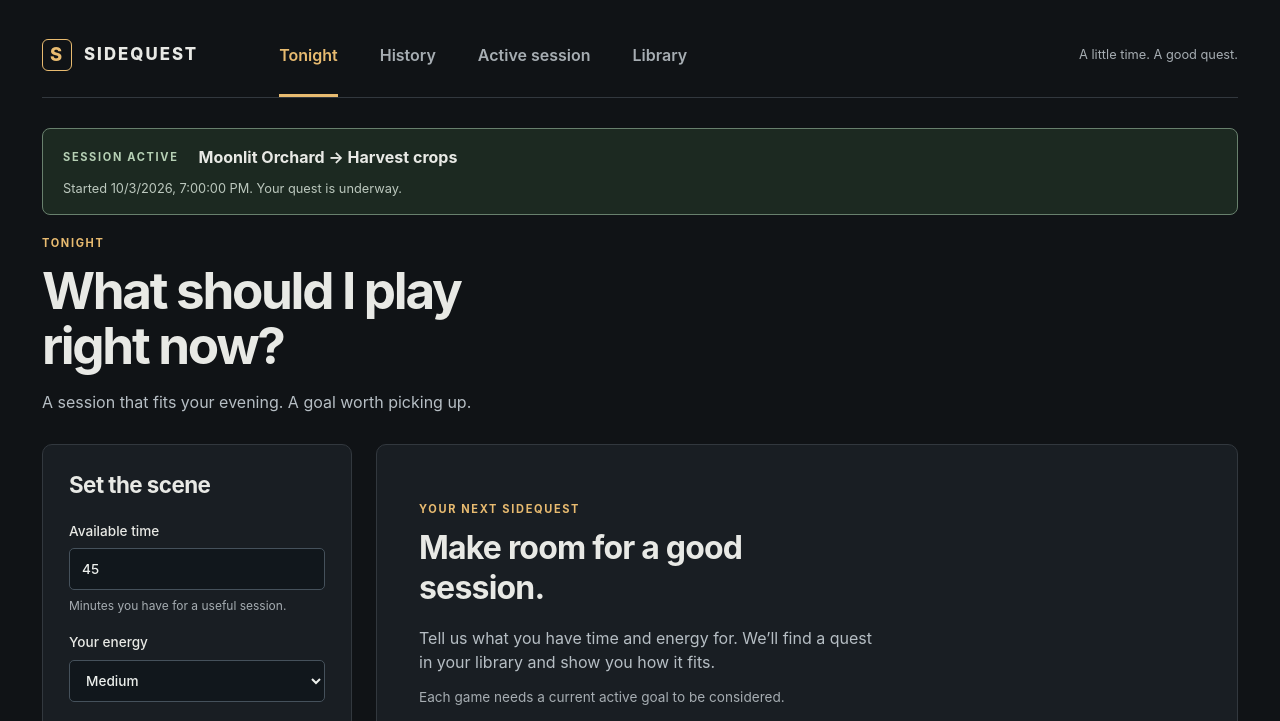
Test: Active and finish › does not rewrite edited duration when the timer advances
Click the button "Active session": (534, 54) [462, 12, 607, 97]
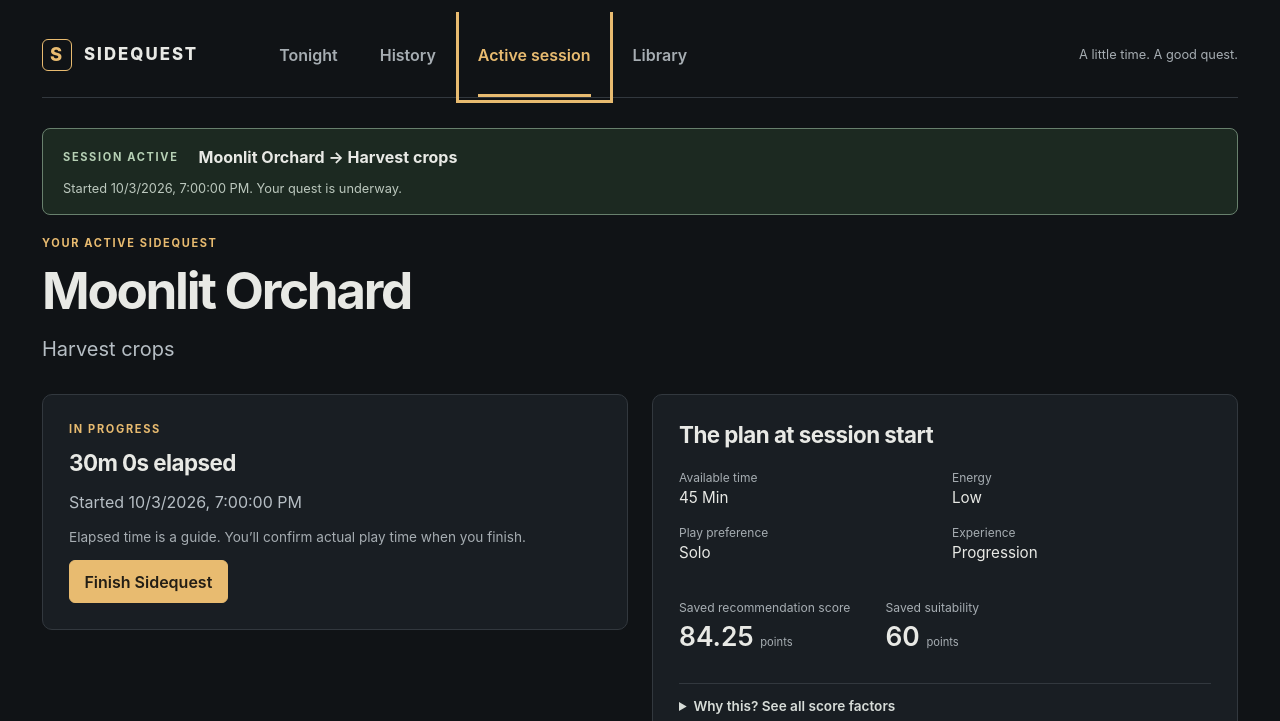
Click the button "Finish Sidequest": (148, 582) [69, 560, 228, 603]
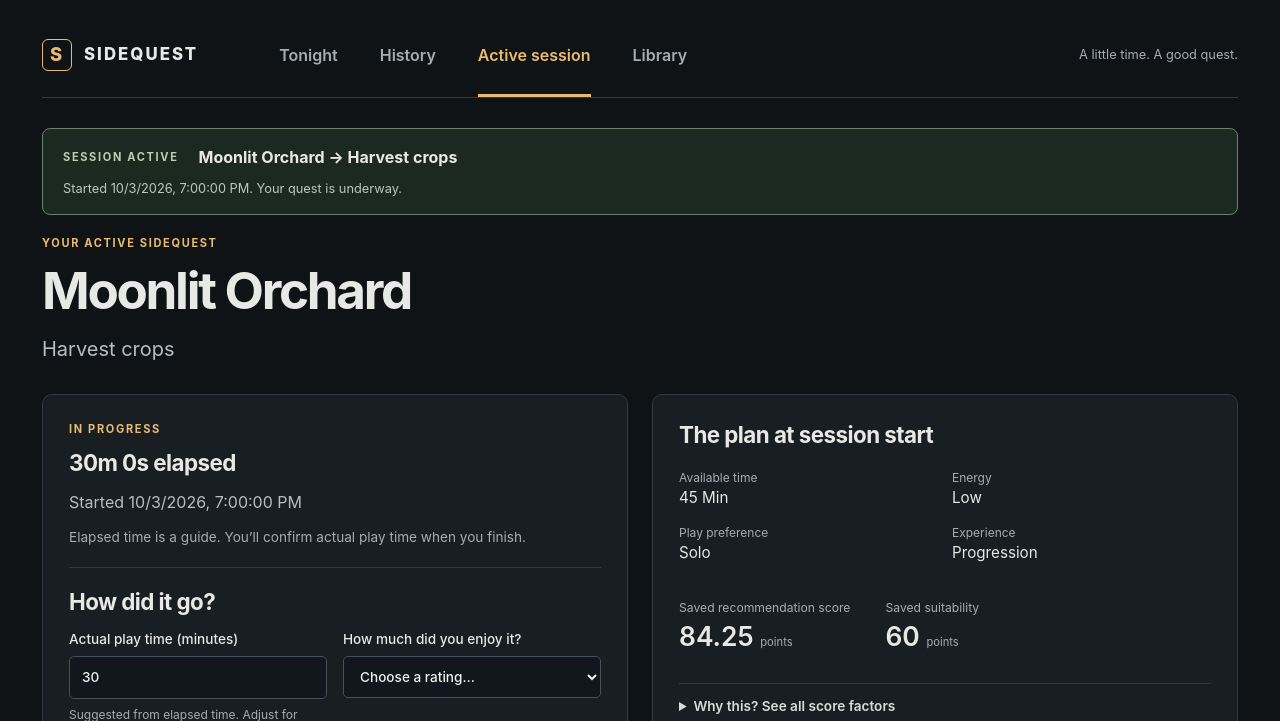
Select "3 · Okay" in the dropdown labelled "How much did you enjoy it?": (472, 677) [343, 656, 601, 698]
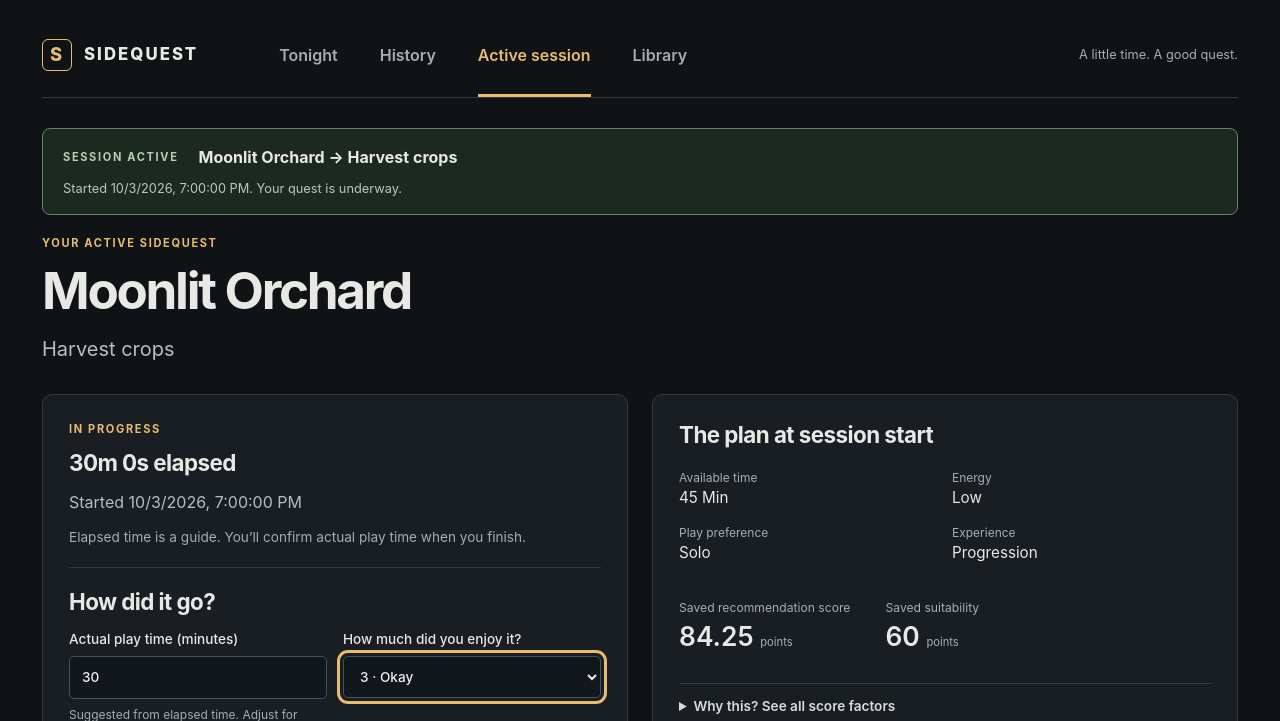
Replace the text in the number field labelled "Actual play time (minutes)" with "12": (198, 677) [69, 656, 327, 699]
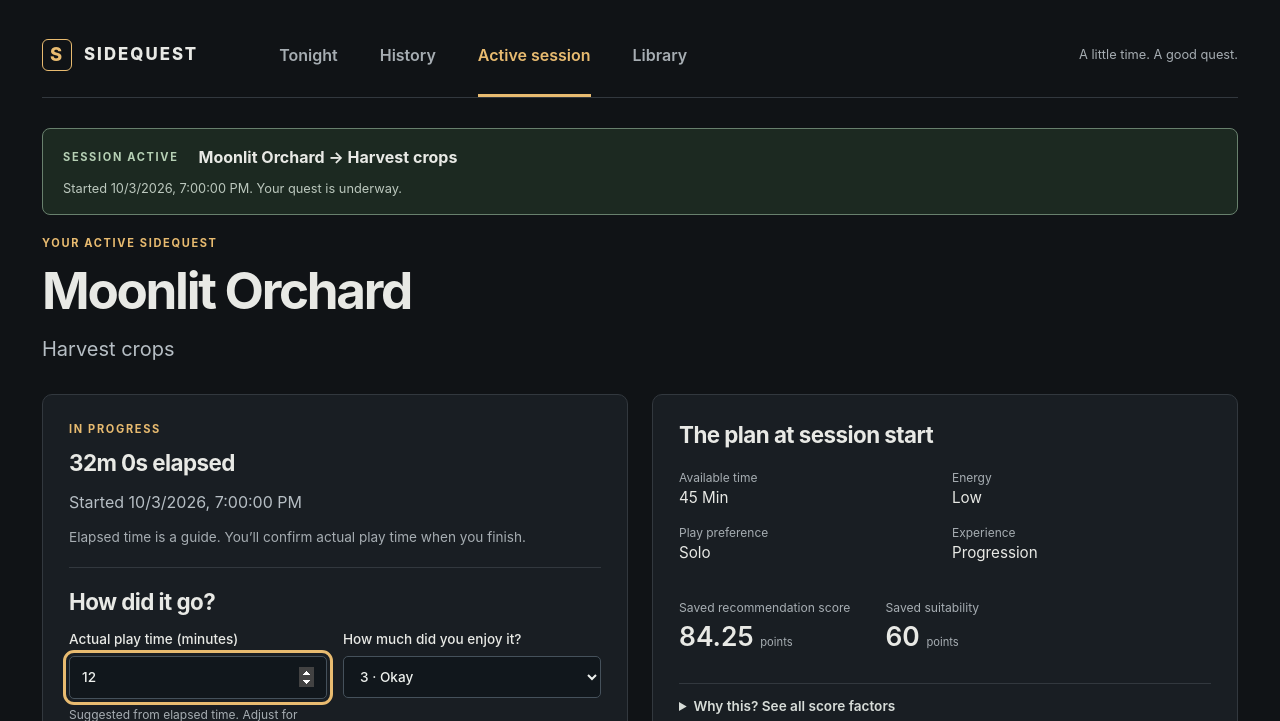
expect the heading "32m 0s elapsed" is shown: met, box [69, 449, 235, 476]
